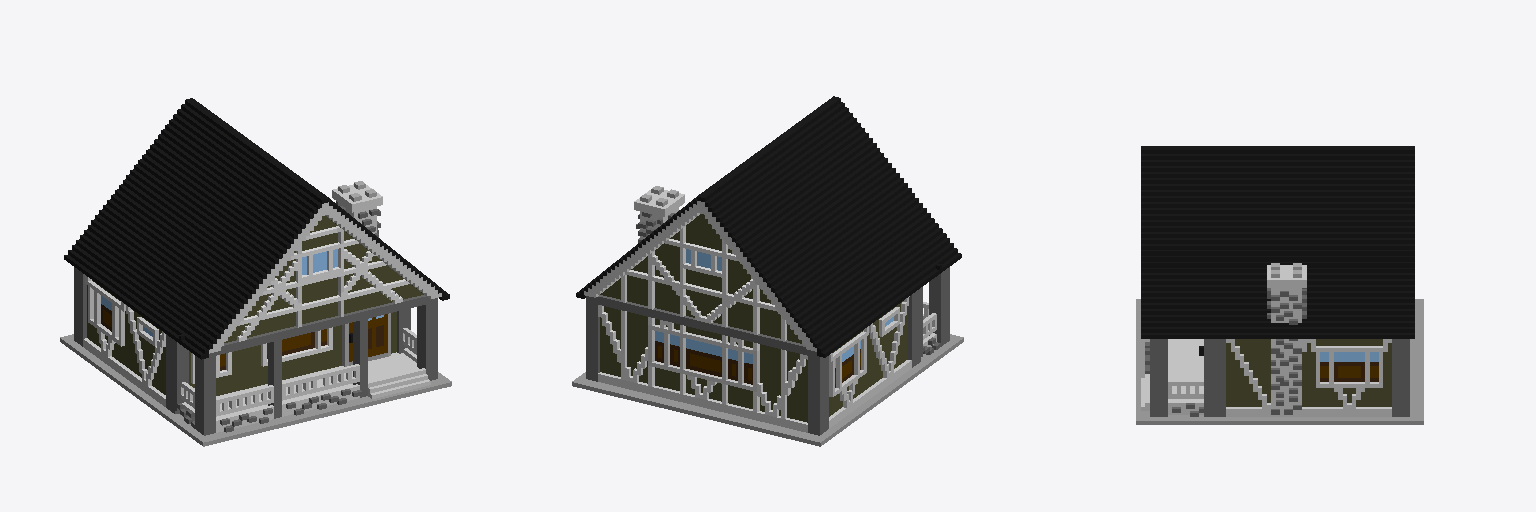
The picture shows the model from 3 angles: view 1: azimuth 30°, elevation 25°; view 2: azimuth 150°, elevation 25°; view 3: azimuth 270°, elevation 25°; orthographic projection.
Parts seen in each view (by area): view 1: object 1; view 2: object 1; view 3: object 1.
Boxes of the visible parts, x1,y1,x2,y2 form: object 1: [60, 98, 451, 446]; object 1: [572, 96, 963, 446]; object 1: [1136, 146, 1423, 424].
Size of the model in its own units: 6.4 by 5.3 by 6.4.
Materials: 1 (1 with a texture image).